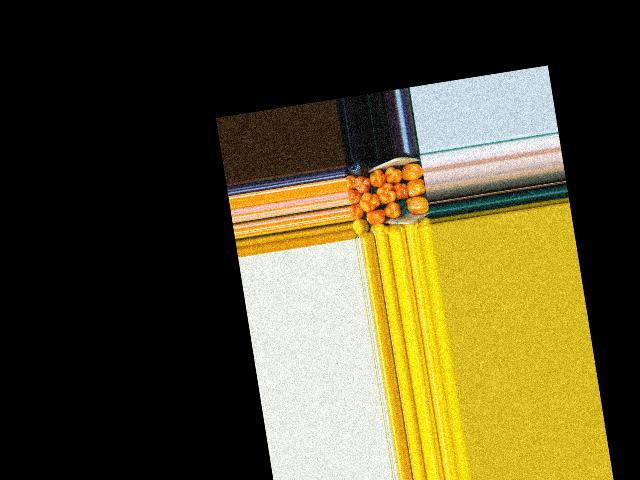bell_pepper: (368, 222, 391, 235)
